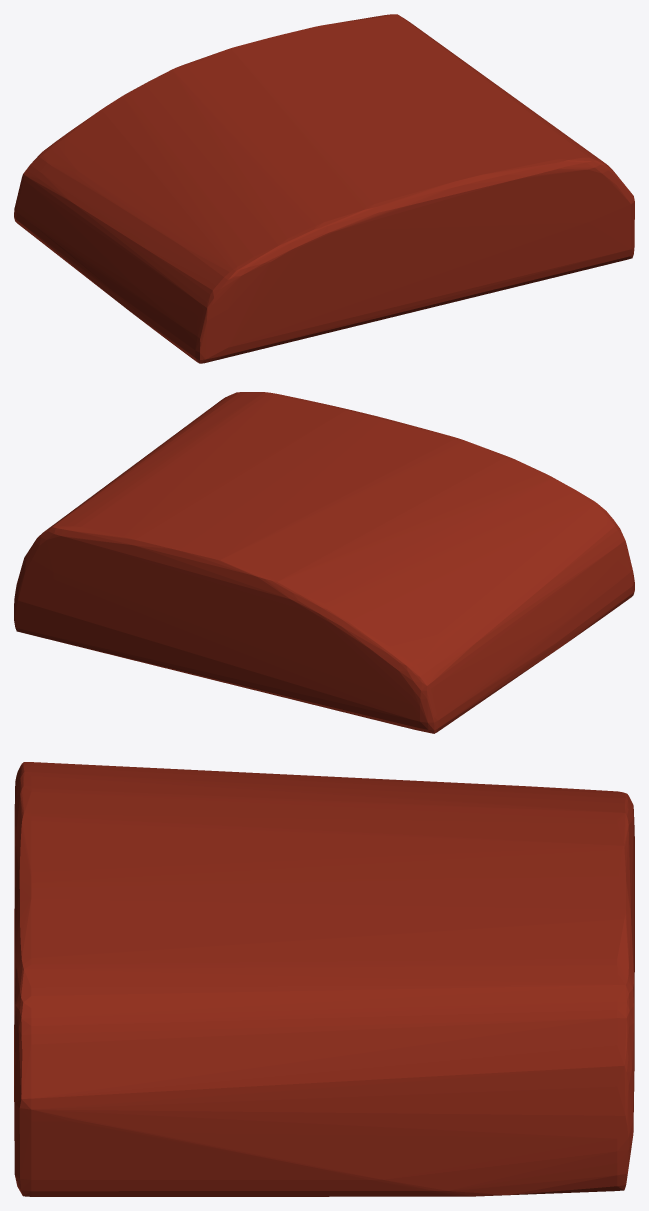
3 views of the same model, one above another, from view 1: azimuth 30°, elevation 25°; view 2: azimuth 150°, elevation 25°; view 3: azimuth 270°, elevation 25° (orthographic). The views are drawn at different scales.
Bounding box in the file's own units: 0.1841 × 0.0492 × 0.1442.
